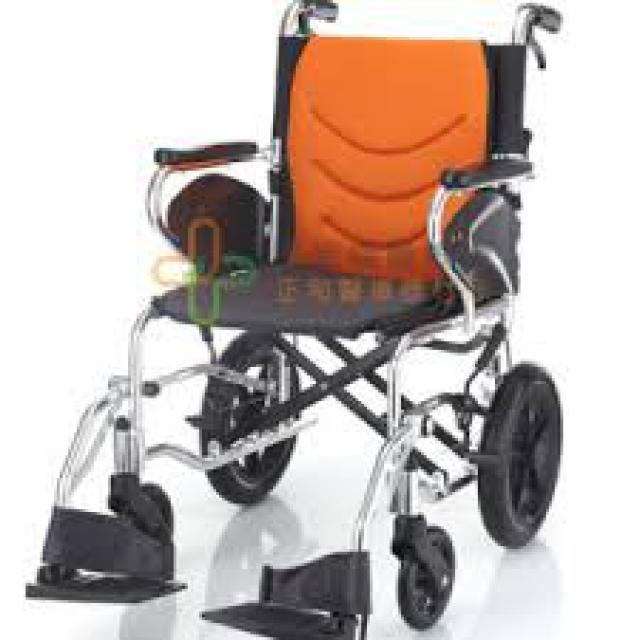wheelchairs: (41, 0, 565, 640)
